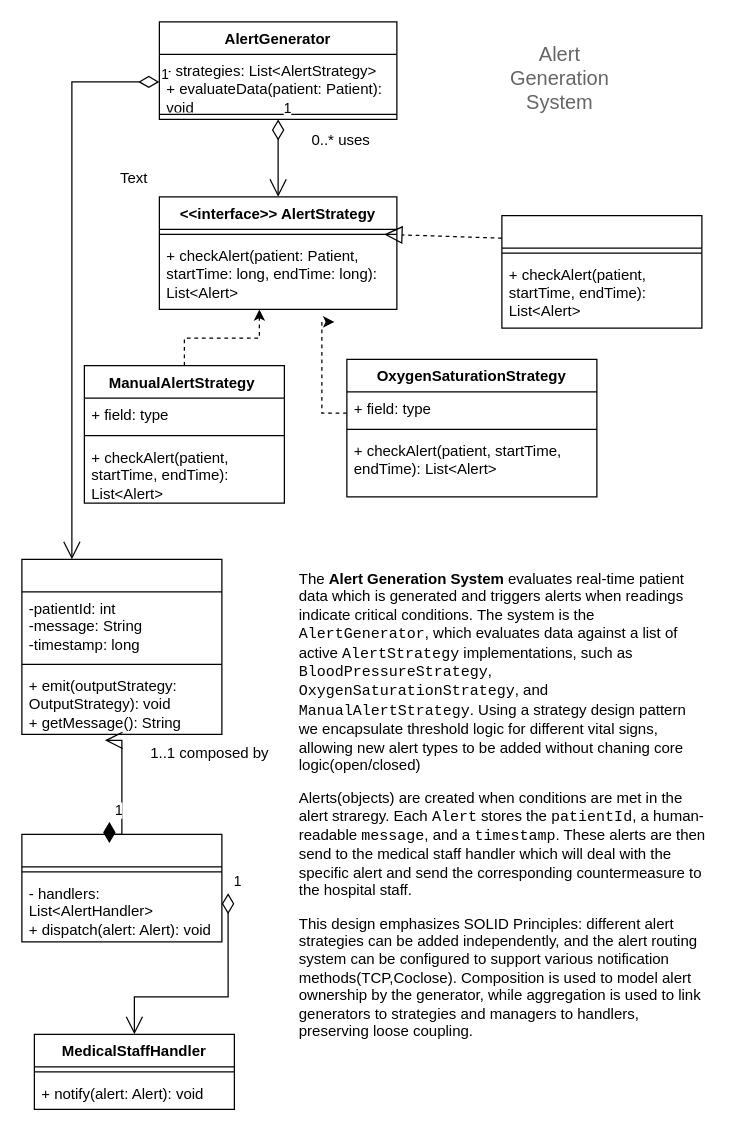
The diagram is 730 pixels wide and 1135 high, and some of its shapes have lost their labels. The shapes that lost their labels are listed below. From the top down, each one's box as (x1, y1, x2, y2) in pixels, then its label:
(501, 214, 702, 328): BloodPressureStrategy
(21, 558, 222, 734): Alert
(21, 833, 222, 942): <<interface>>AlertManager
